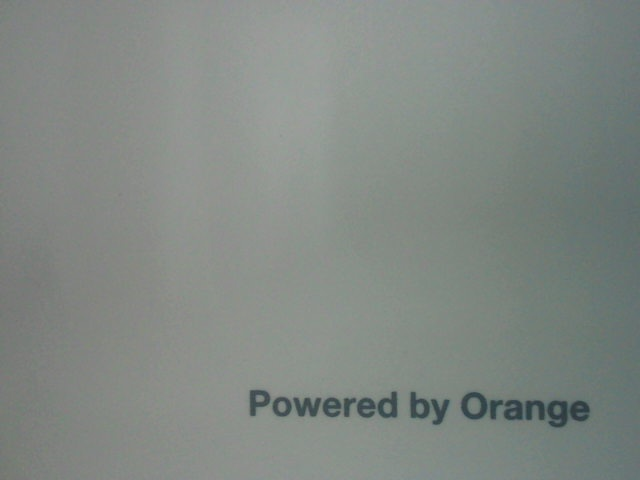AS_PowerByOrange: (223, 372, 615, 438)
